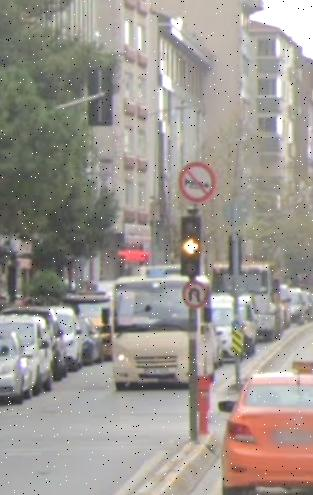yellowlight: (181, 216, 199, 275)
